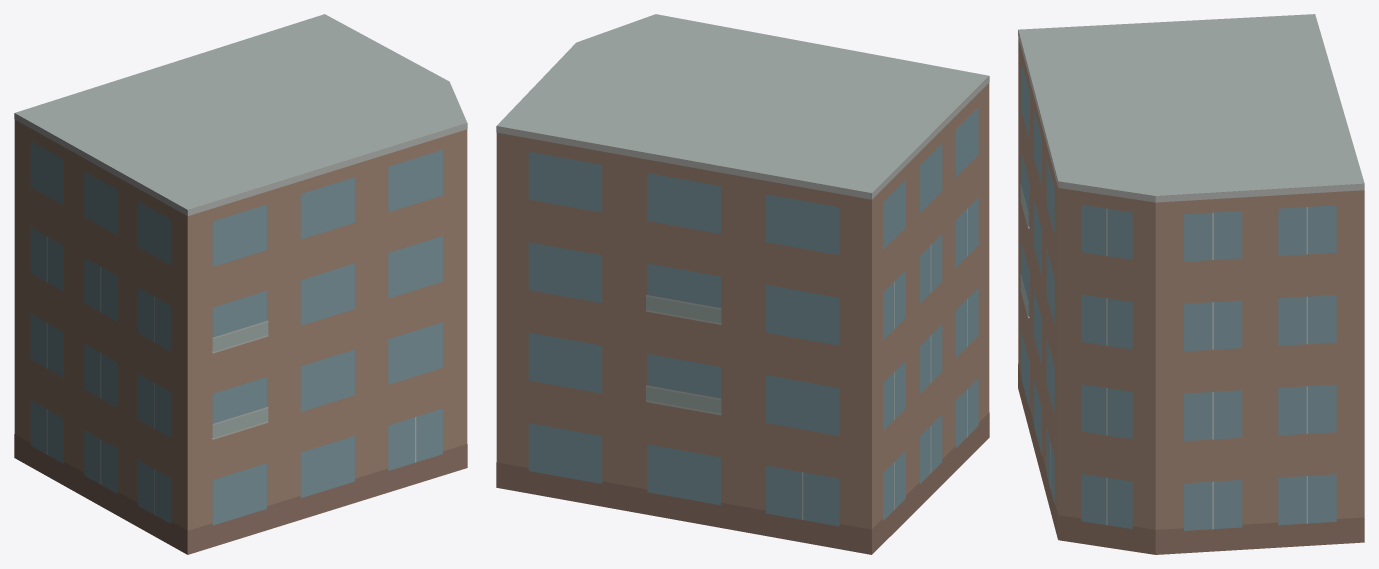
File: survey-upis-32576358.glb
3 renders of one model, left to right at view 1: azimuth 30°, elevation 25°; view 2: azimuth 150°, elevation 25°; view 3: azimuth 270°, elevation 25°, orthographic. The views are drawn at different scales.
Visible parts, largest first — view 1: survey-upis-32576358.tmp; view 2: survey-upis-32576358.tmp; view 3: survey-upis-32576358.tmp.
Boxes of the visible parts, left/top/right/bottom form: survey-upis-32576358.tmp: left=14, top=14, right=467, bottom=554; survey-upis-32576358.tmp: left=496, top=14, right=989, bottom=554; survey-upis-32576358.tmp: left=1018, top=14, right=1364, bottom=554.
Bounding box in the file's own units: 14.53 × 13.35 × 11.69.
